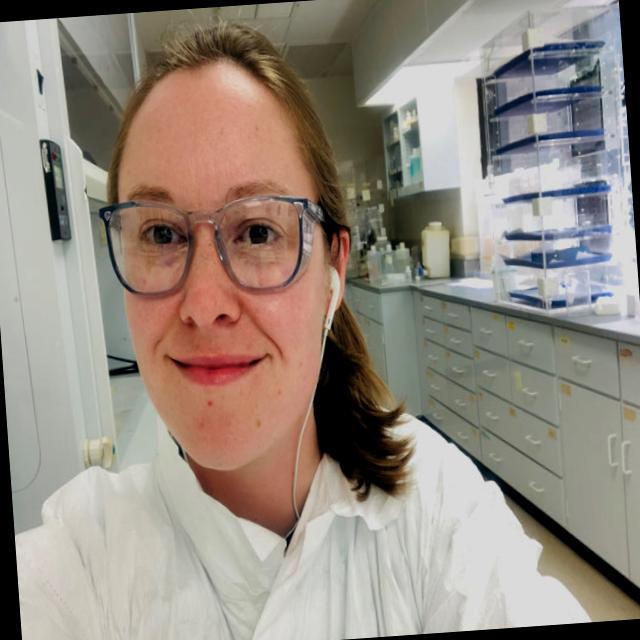goggles: (90, 185, 338, 304)
no-helmet: (67, 0, 339, 197)
no-vest: (9, 415, 573, 640)
